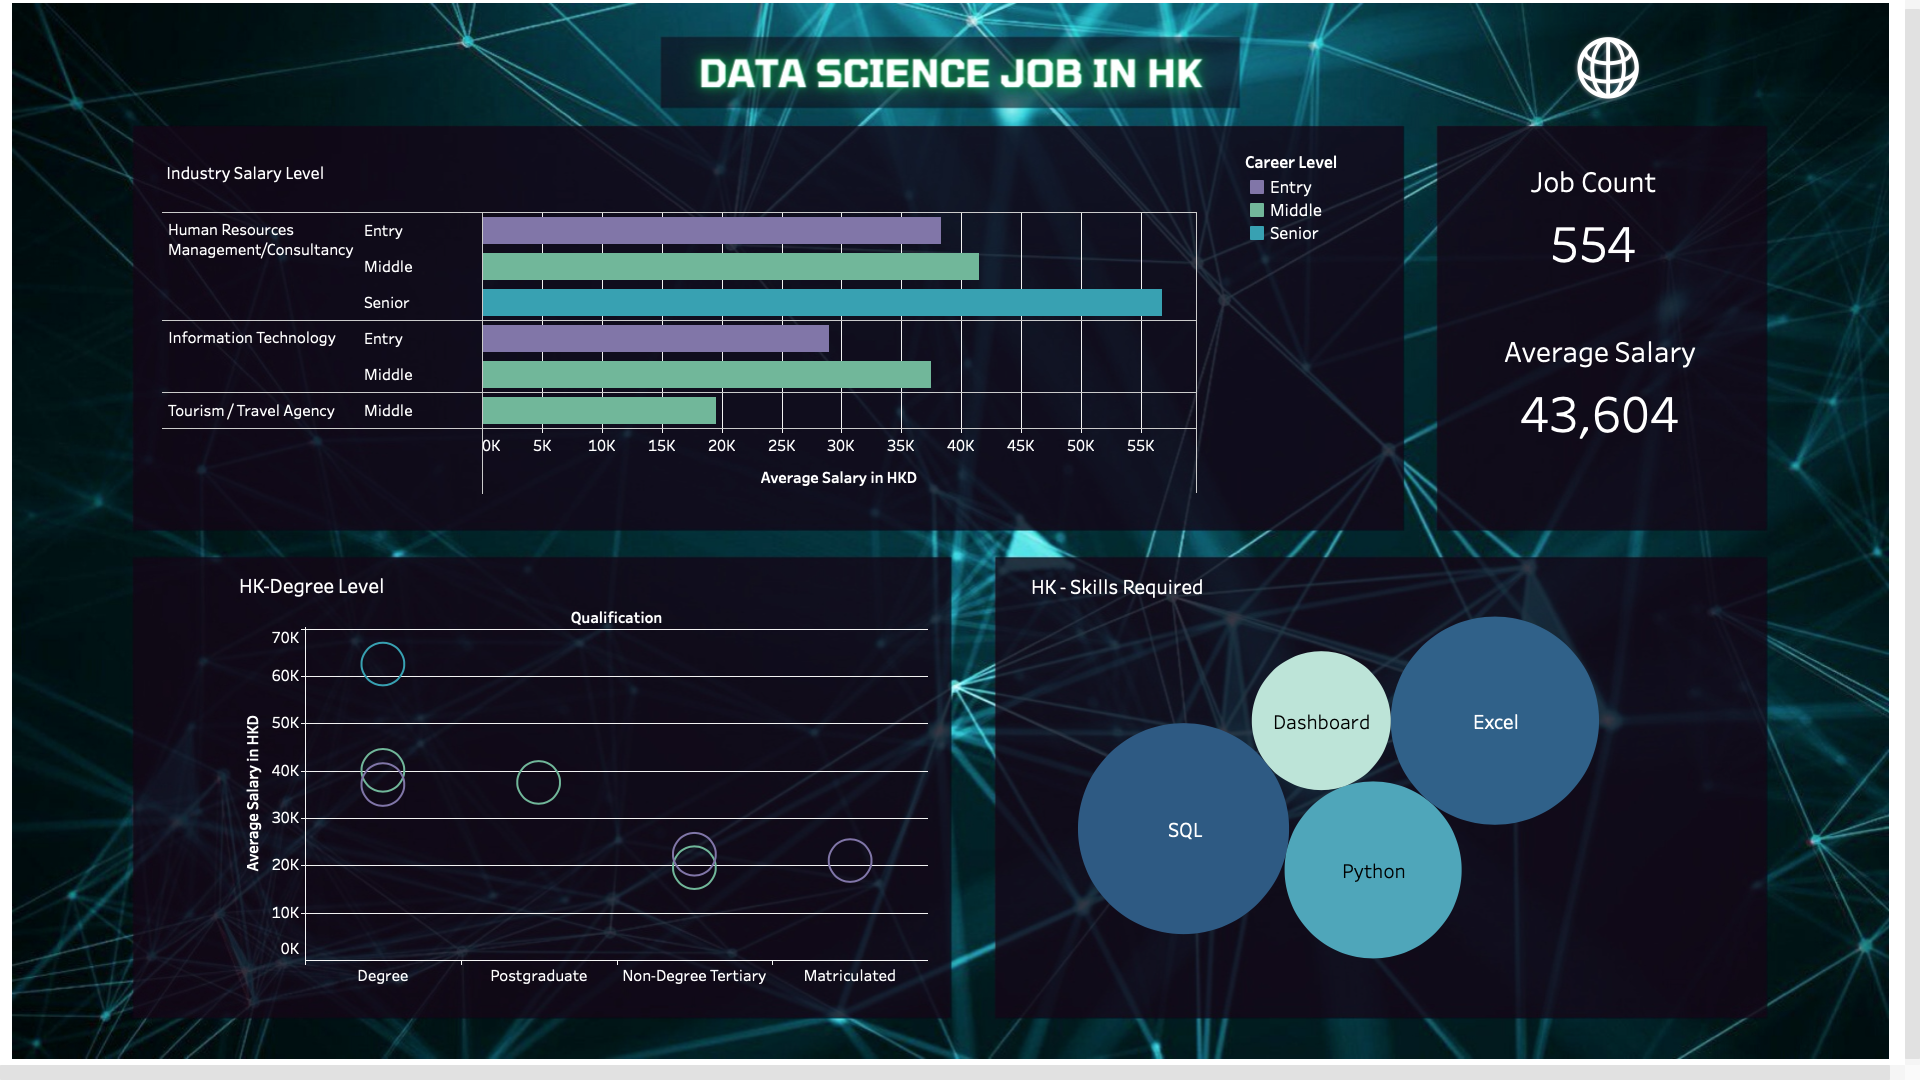

The dashboard page shown, as its layout file describes it:
{"tool":"tableau","page":{"name":"Dashboard 2","canvas":[1920,1080],"ordinal":1},"visuals":[{"type":"image","param":"Image/Data Science Job in HK (1).png","box":[8,8,1904,1064]},{"type":"dashboard-object","box":[1523,41,168,73]},{"type":"legend","title":"HK - Industry Salary Level","param":"[federated.07hbbqe1ypowin1614jtb098zmmc].[none:Career Level:nk]","box":[1245,160,140,128]},{"type":"worksheet","title":"HK - Industry Salary Level","mark":"Automatic","rows":["Industry","Career Level"],"cols":["Salary"],"box":[162,163,1035,342]},{"type":"worksheet","title":"total job hk","mark":"Automatic","box":[1443,165,316,132]},{"type":"worksheet","title":"avg salary hk","mark":"Automatic","box":[1445,335,312,146]},{"type":"worksheet","title":"HK - Skills Required","mark":"Circle","box":[1078,536,677,521]},{"type":"worksheet","title":"HK-Degree Level","mark":"Shape","rows":["Salary"],"cols":["Qualification"],"box":[235,574,693,435]},{"type":"text","box":[1031,580,185,30]}]}

Visuals, with their boxes in screenshot pixels (x1, y1, x2, y2), scaled from the page's 1920x1080 canvas onto the 1920x1080 screenshot:
image: rect(8, 8, 1912, 1072)
dashboard-object: rect(1523, 41, 1691, 114)
"HK - Industry Salary Level" legend: rect(1245, 160, 1385, 288)
"HK - Industry Salary Level" worksheet: rect(162, 163, 1197, 505)
"total job hk" worksheet: rect(1443, 165, 1759, 297)
"avg salary hk" worksheet: rect(1445, 335, 1757, 481)
"HK - Skills Required" worksheet (Circle marks): rect(1078, 536, 1755, 1057)
"HK-Degree Level" worksheet (Shape marks): rect(235, 574, 928, 1009)
text: rect(1031, 580, 1216, 610)
